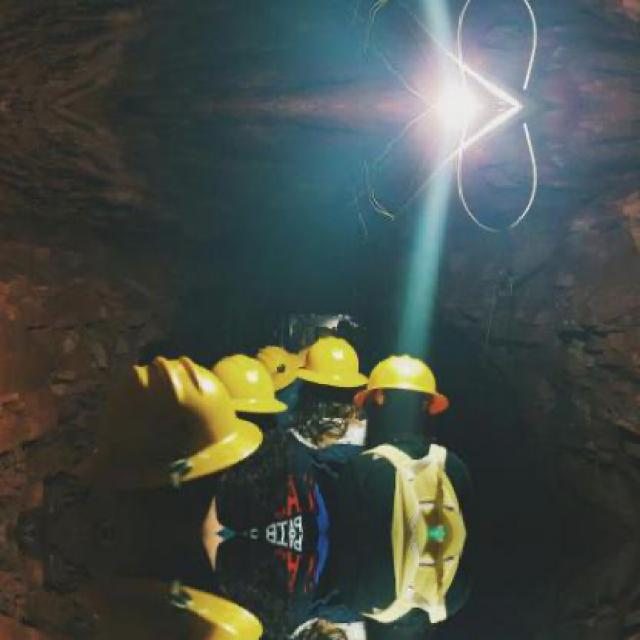helmet: (88, 354, 255, 522), (88, 544, 257, 638), (362, 348, 444, 446), (295, 330, 368, 412)
